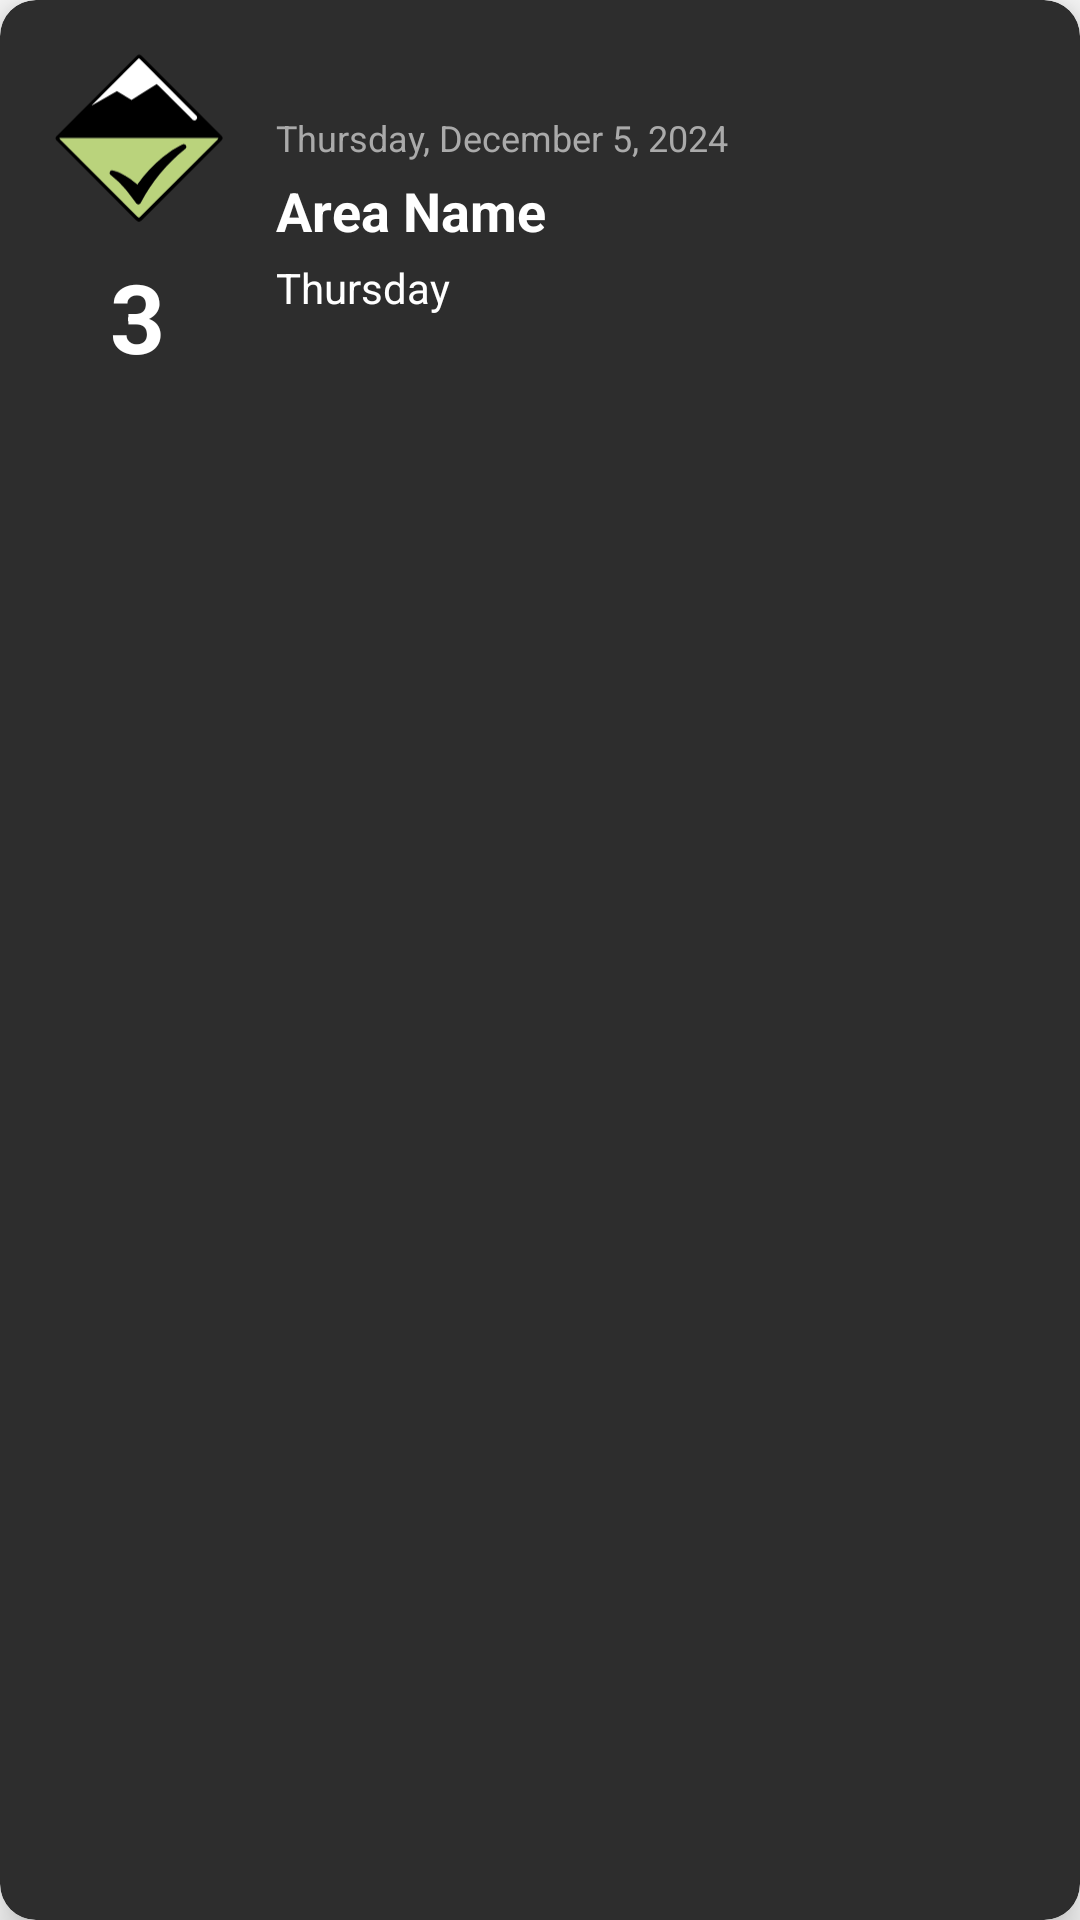

Named icons in this screenshot (1080px x 1920px) and their bounding boxes, box=[x1, y1, x2, y2]:
level: box=[56, 55, 222, 222]
